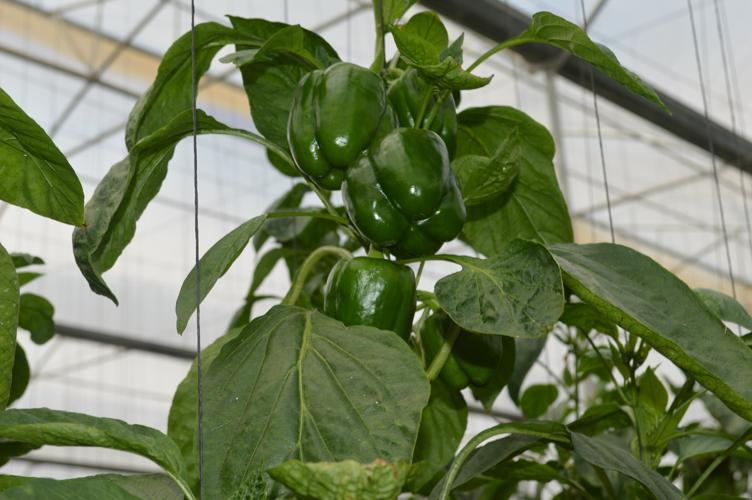BellPepper: (350, 128, 463, 256), (287, 62, 389, 185), (323, 258, 413, 335), (417, 315, 496, 392), (391, 67, 457, 152)
